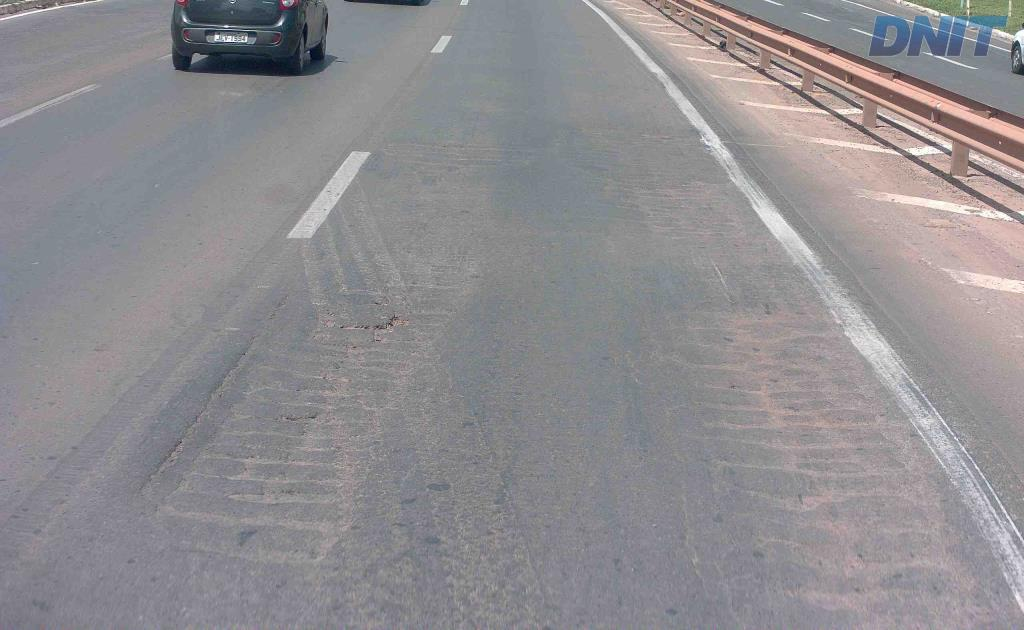pothole: (328, 304, 410, 347)
